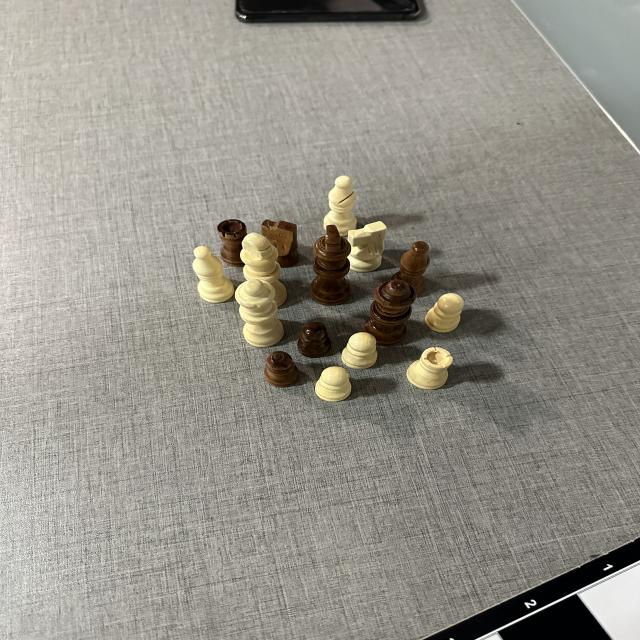Black-Bishop: (390, 241, 430, 295)
Black-King: (311, 225, 351, 304)
Black-Pawn: (265, 350, 299, 388), (298, 323, 331, 357)
Black-Queen: (363, 280, 415, 346)
Black-Rook: (217, 219, 251, 267)
White-Bishop: (192, 246, 233, 304), (323, 176, 357, 236)
White-King: (240, 233, 287, 306)
White-Knight: (347, 221, 387, 272)
White-Pawn: (424, 293, 464, 332), (341, 332, 378, 369), (314, 366, 350, 401)
White-Queen: (235, 278, 284, 346)
White-Rook: (407, 346, 452, 389)
